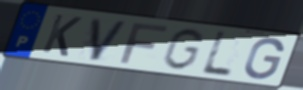F: (118, 21, 170, 65)
G: (160, 27, 206, 72), (241, 36, 286, 81)
K: (39, 12, 84, 59)
L: (199, 30, 234, 78)
V: (87, 16, 131, 63)
